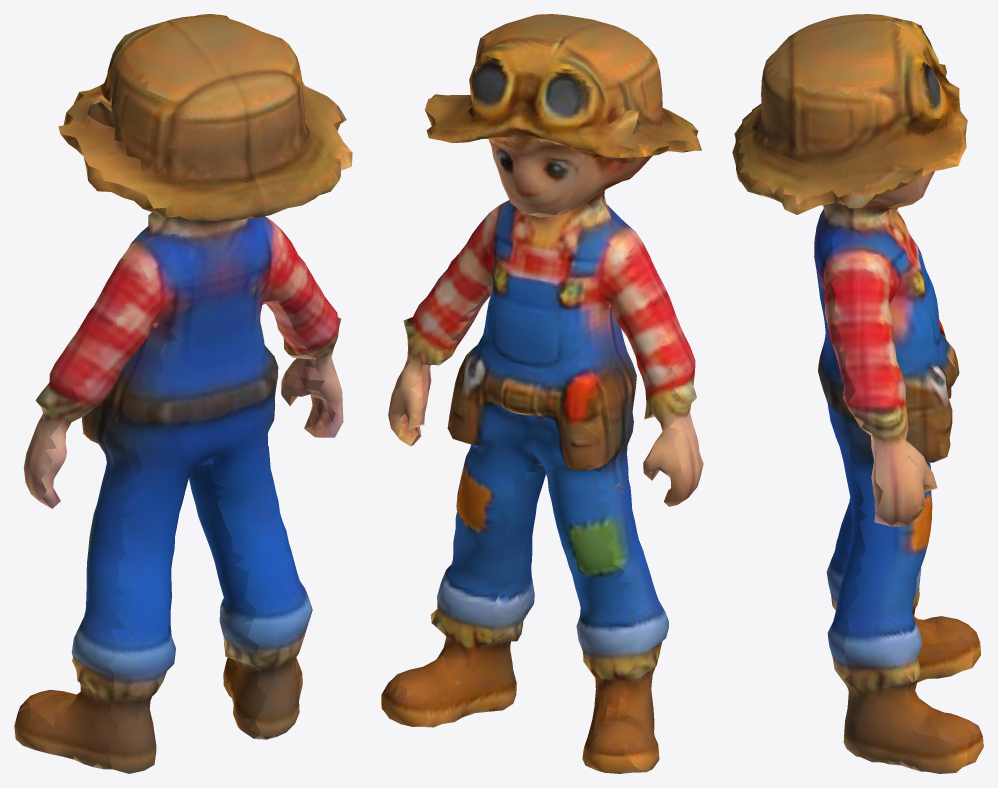
File: scarecrow-tinker-toon-raw.glb
3 renders of one model, left to right at view 1: azimuth 30°, elevation 25°; view 2: azimuth 150°, elevation 25°; view 3: azimuth 270°, elevation 25°, orthographic. The views are drawn at different scales.
Parts seen in each view (by area): view 1: world; view 2: world; view 3: world.
Part boxes in pixels (box(x1,y1,x2,y2)): world: box(14, 14, 352, 773); world: box(381, 14, 703, 773); world: box(732, 14, 983, 773).
Bounding box in the file's own units: 0.4212 × 0.9311 × 0.3066.
Materials: 1 (1 with a texture image).
